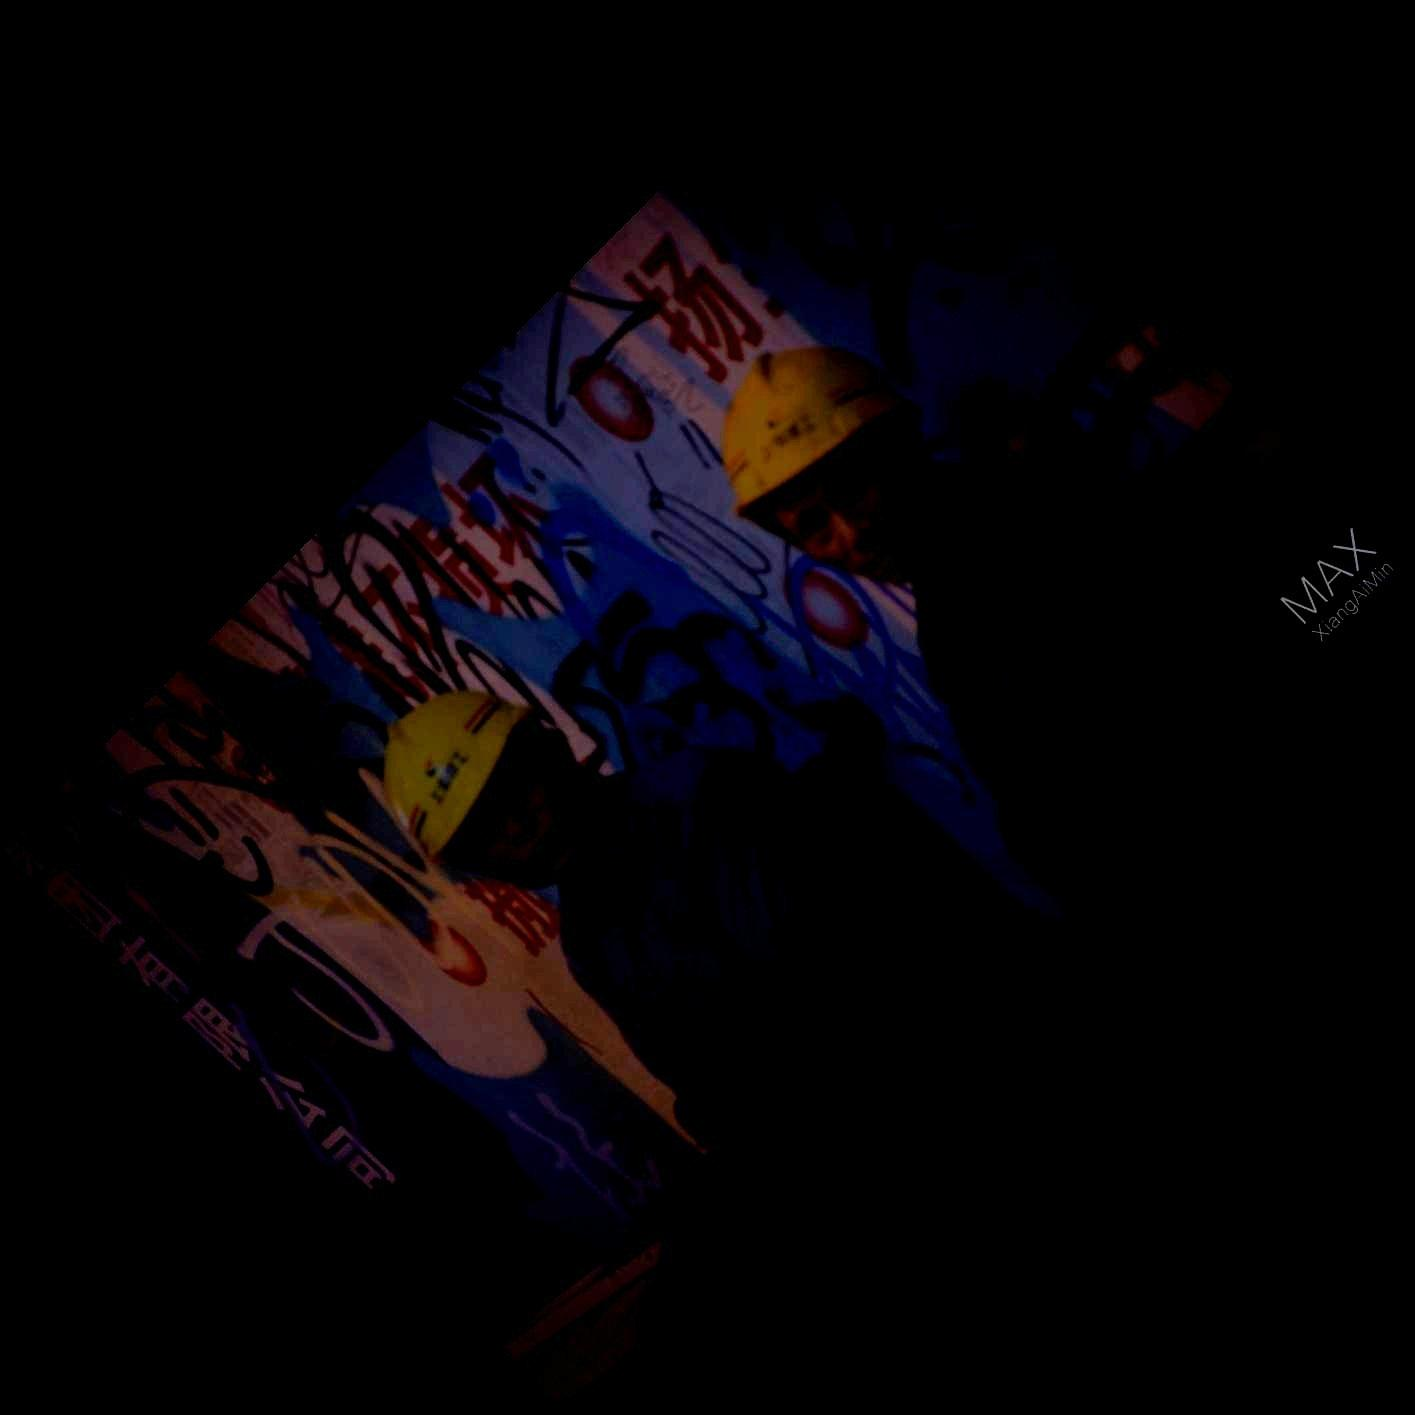helmet: (722, 345, 923, 581), (380, 689, 586, 895)
